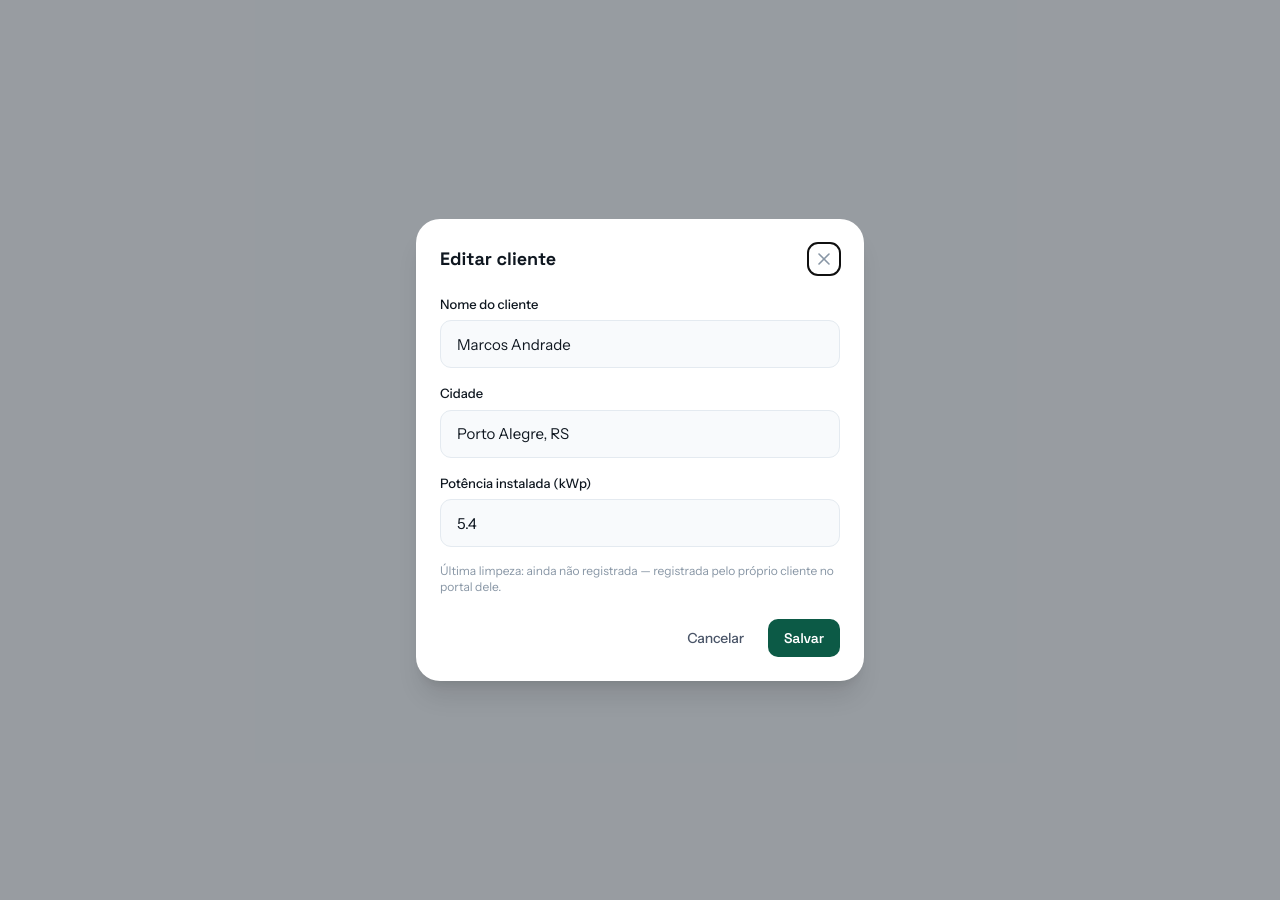
Test: EditClientModal › mostra mensagem de erro se updatePlant falhar e não fecha o modal
Click the button "Salvar" at (804, 638), box [768,619,840,657]
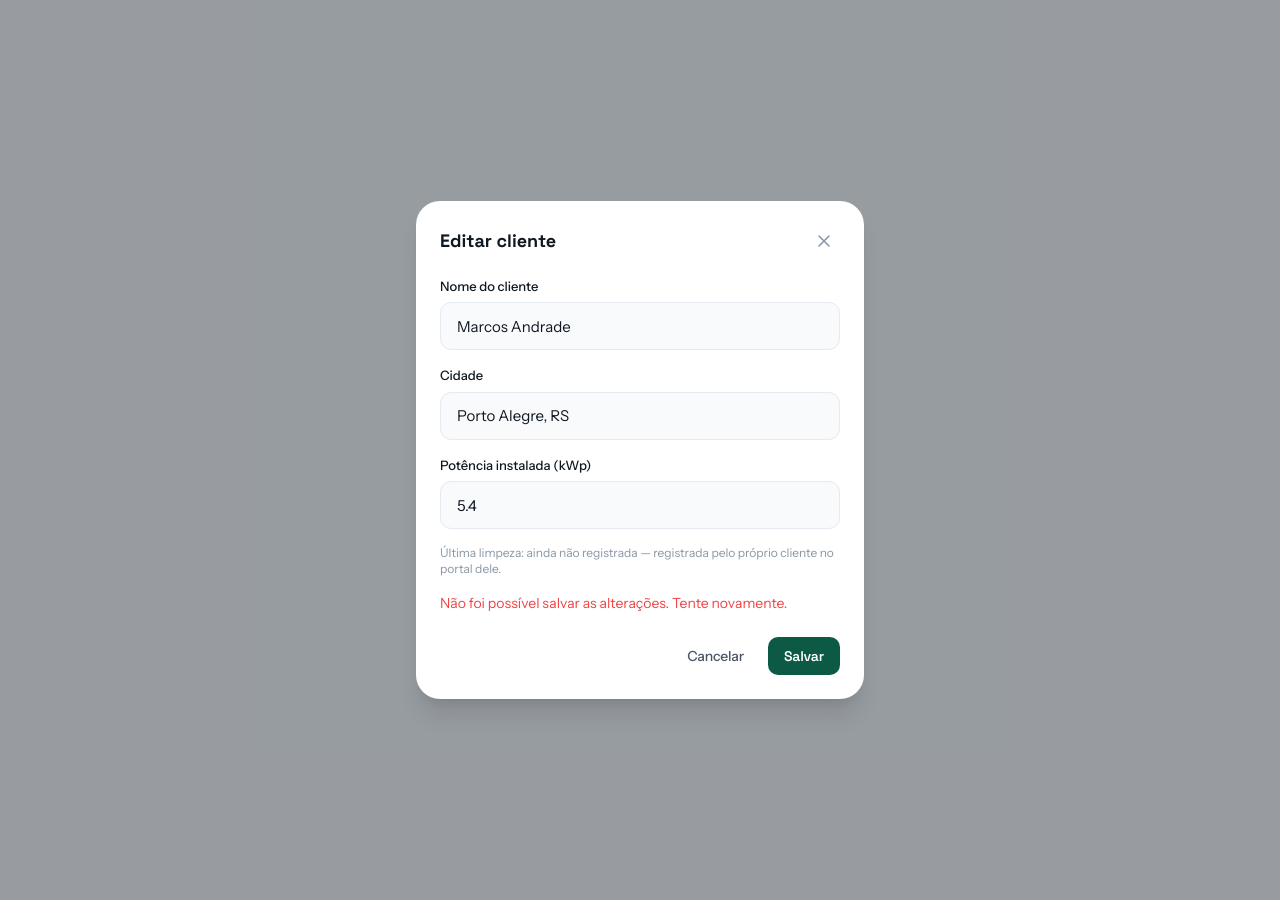
Check: the text "Não foi possível salvar as alterações. Tente novamente." is shown, box [440,593,840,613]
